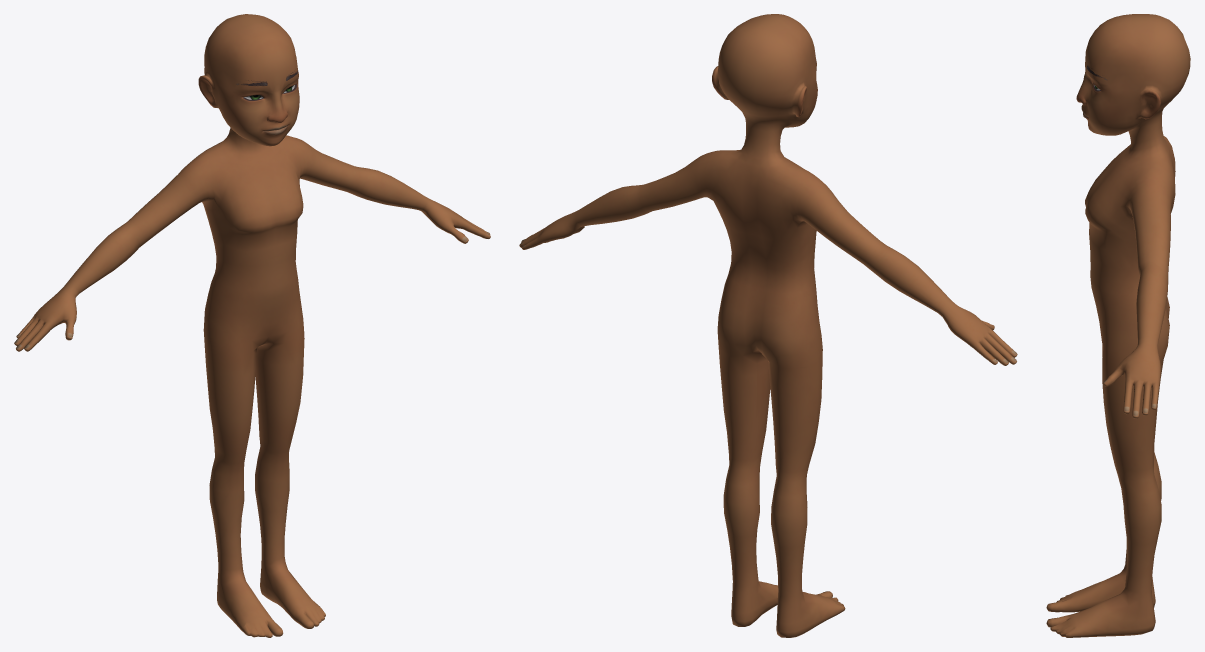
Rendered from frame_0095.glb.
3 views of the same model, side by side, from view 1: azimuth 30°, elevation 25°; view 2: azimuth 150°, elevation 25°; view 3: azimuth 270°, elevation 25° (orthographic). The views are drawn at different scales.
Visible parts, largest first — view 1: frame_0095_head_geo; view 2: frame_0095_head_geo; view 3: frame_0095_head_geo.
Boxes of the visible parts, box(x1,y1,x2,y2) form: frame_0095_head_geo: box(14, 14, 490, 637); frame_0095_head_geo: box(519, 14, 1017, 637); frame_0095_head_geo: box(1046, 14, 1190, 637).
Bounding box in the file's own units: 1.28 × 1.5 × 0.3253.
3 materials, 3 textured.
